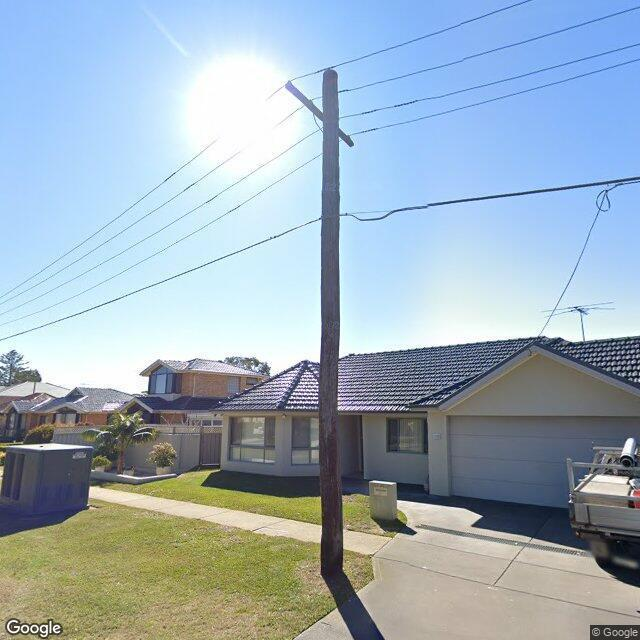crossarm: (283, 80, 358, 146)
timber-pole: (318, 67, 342, 580)
